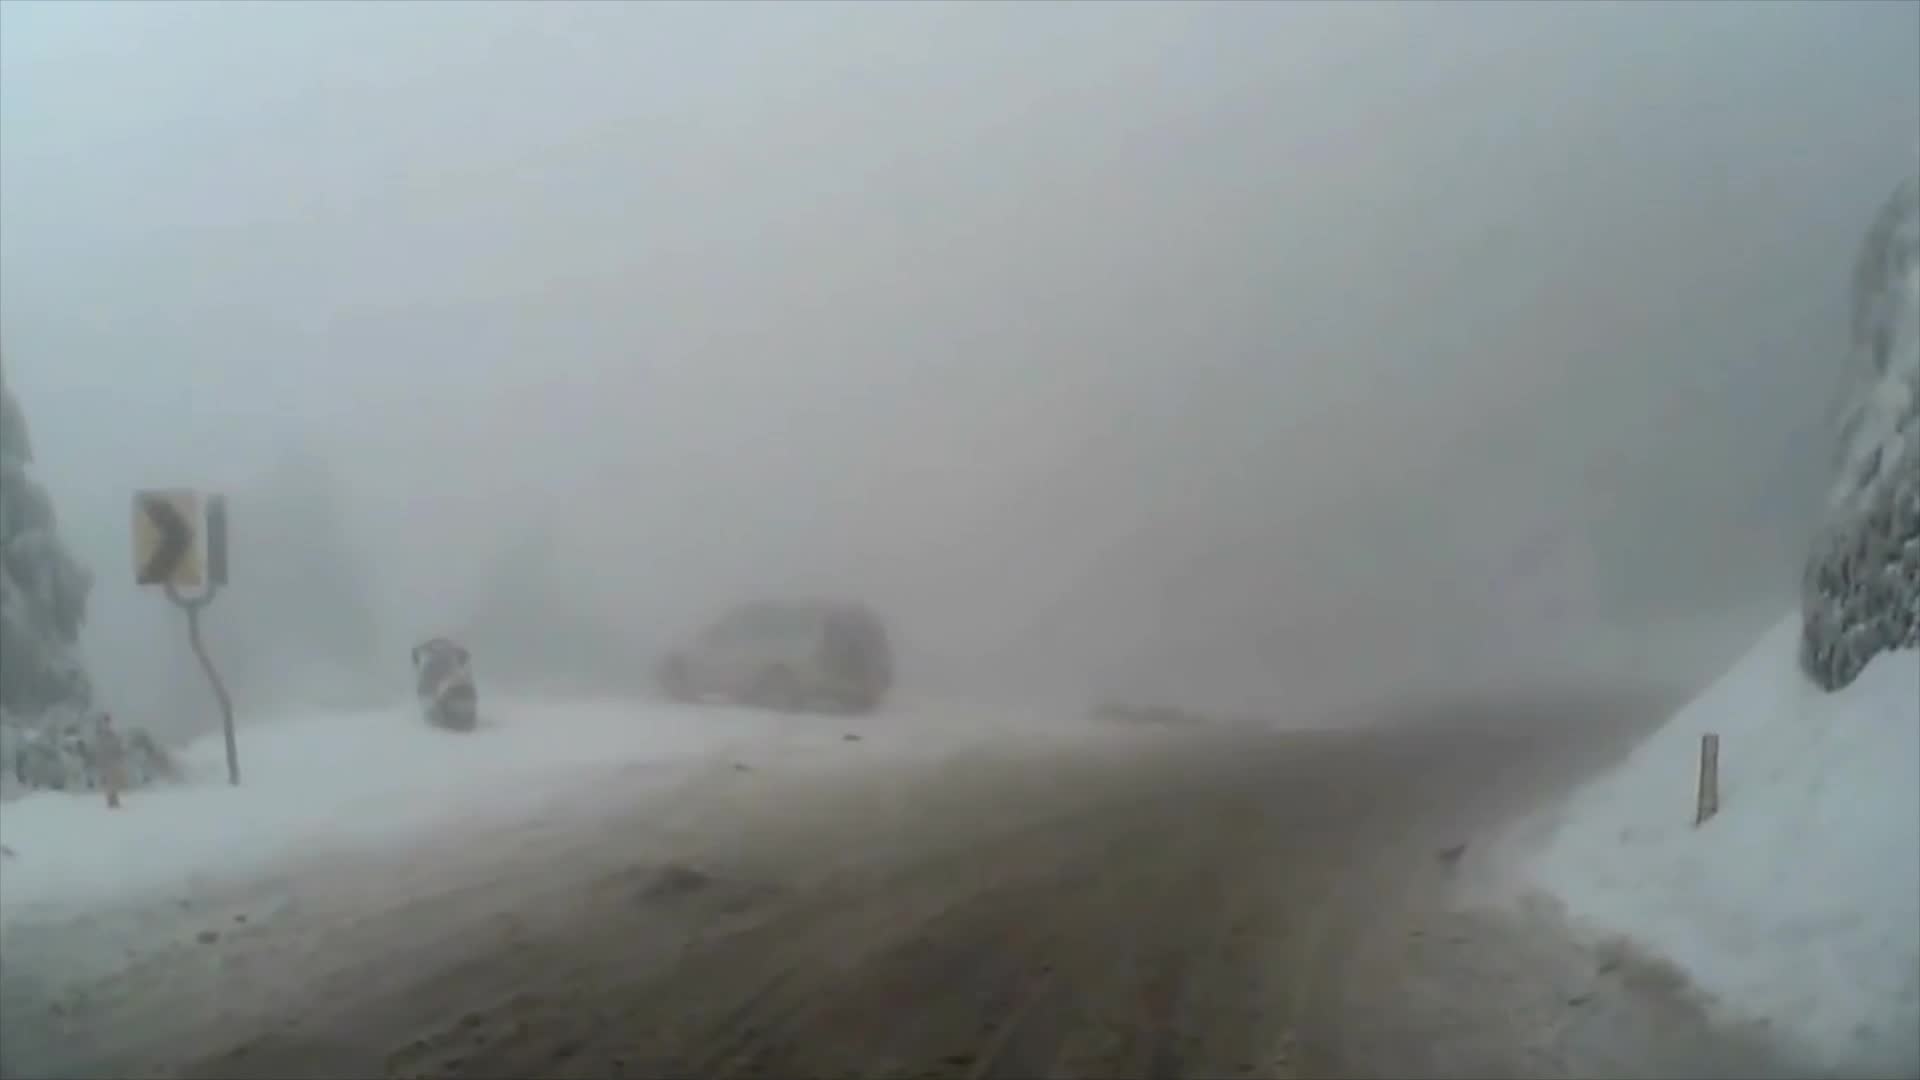vehicle: (650, 597, 887, 716)
